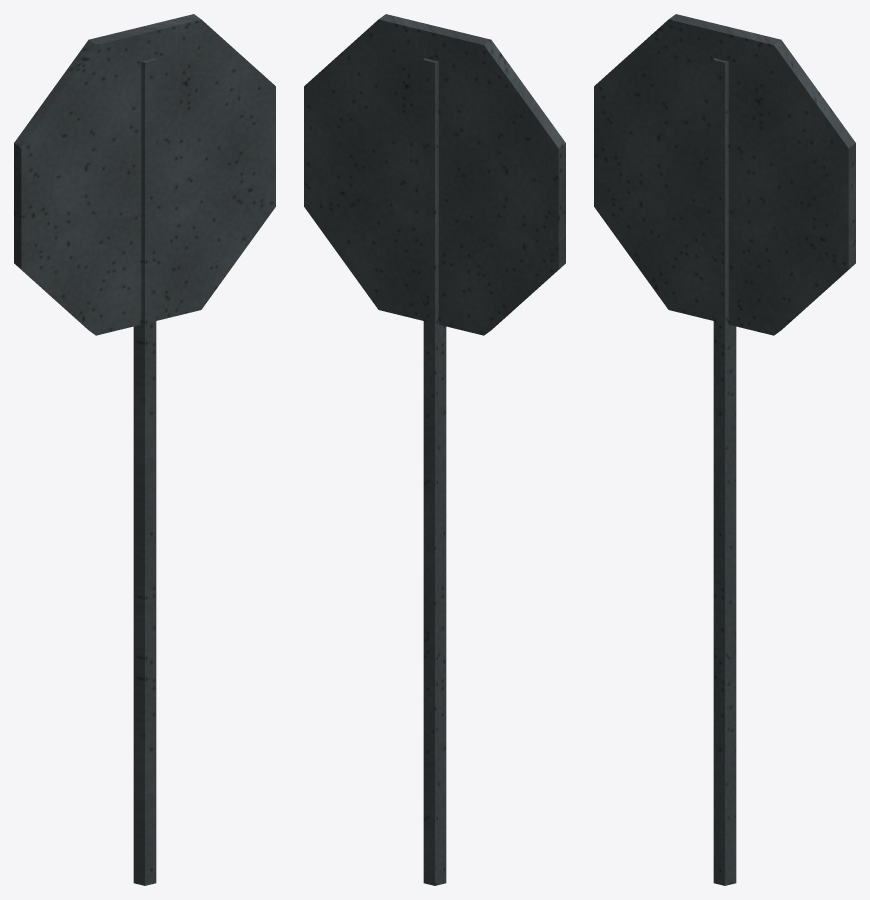
Rendered from PROP-3F00E4E46820_lod2.glb.
The picture shows the model from 3 angles, left to right: view 1: azimuth 30°, elevation 25°; view 2: azimuth 150°, elevation 25°; view 3: azimuth 330°, elevation 25°; orthographic projection.
Visible parts, largest first — view 1: shaped_sign_plate.009, sign_post.031; view 2: shaped_sign_plate.009, sign_post.031; view 3: shaped_sign_plate.009, sign_post.031.
Boxes of the visible parts, x1,y1,x2,y2 form: shaped_sign_plate.009: (14,14,275,335); sign_post.031: (133,58,156,885); shaped_sign_plate.009: (304,14,565,335); sign_post.031: (423,58,446,885); shaped_sign_plate.009: (594,14,855,335); sign_post.031: (713,58,736,885).
Size of the model in its own units: 0.7927 by 2.53 by 0.0606.
1 material, 1 textured.
